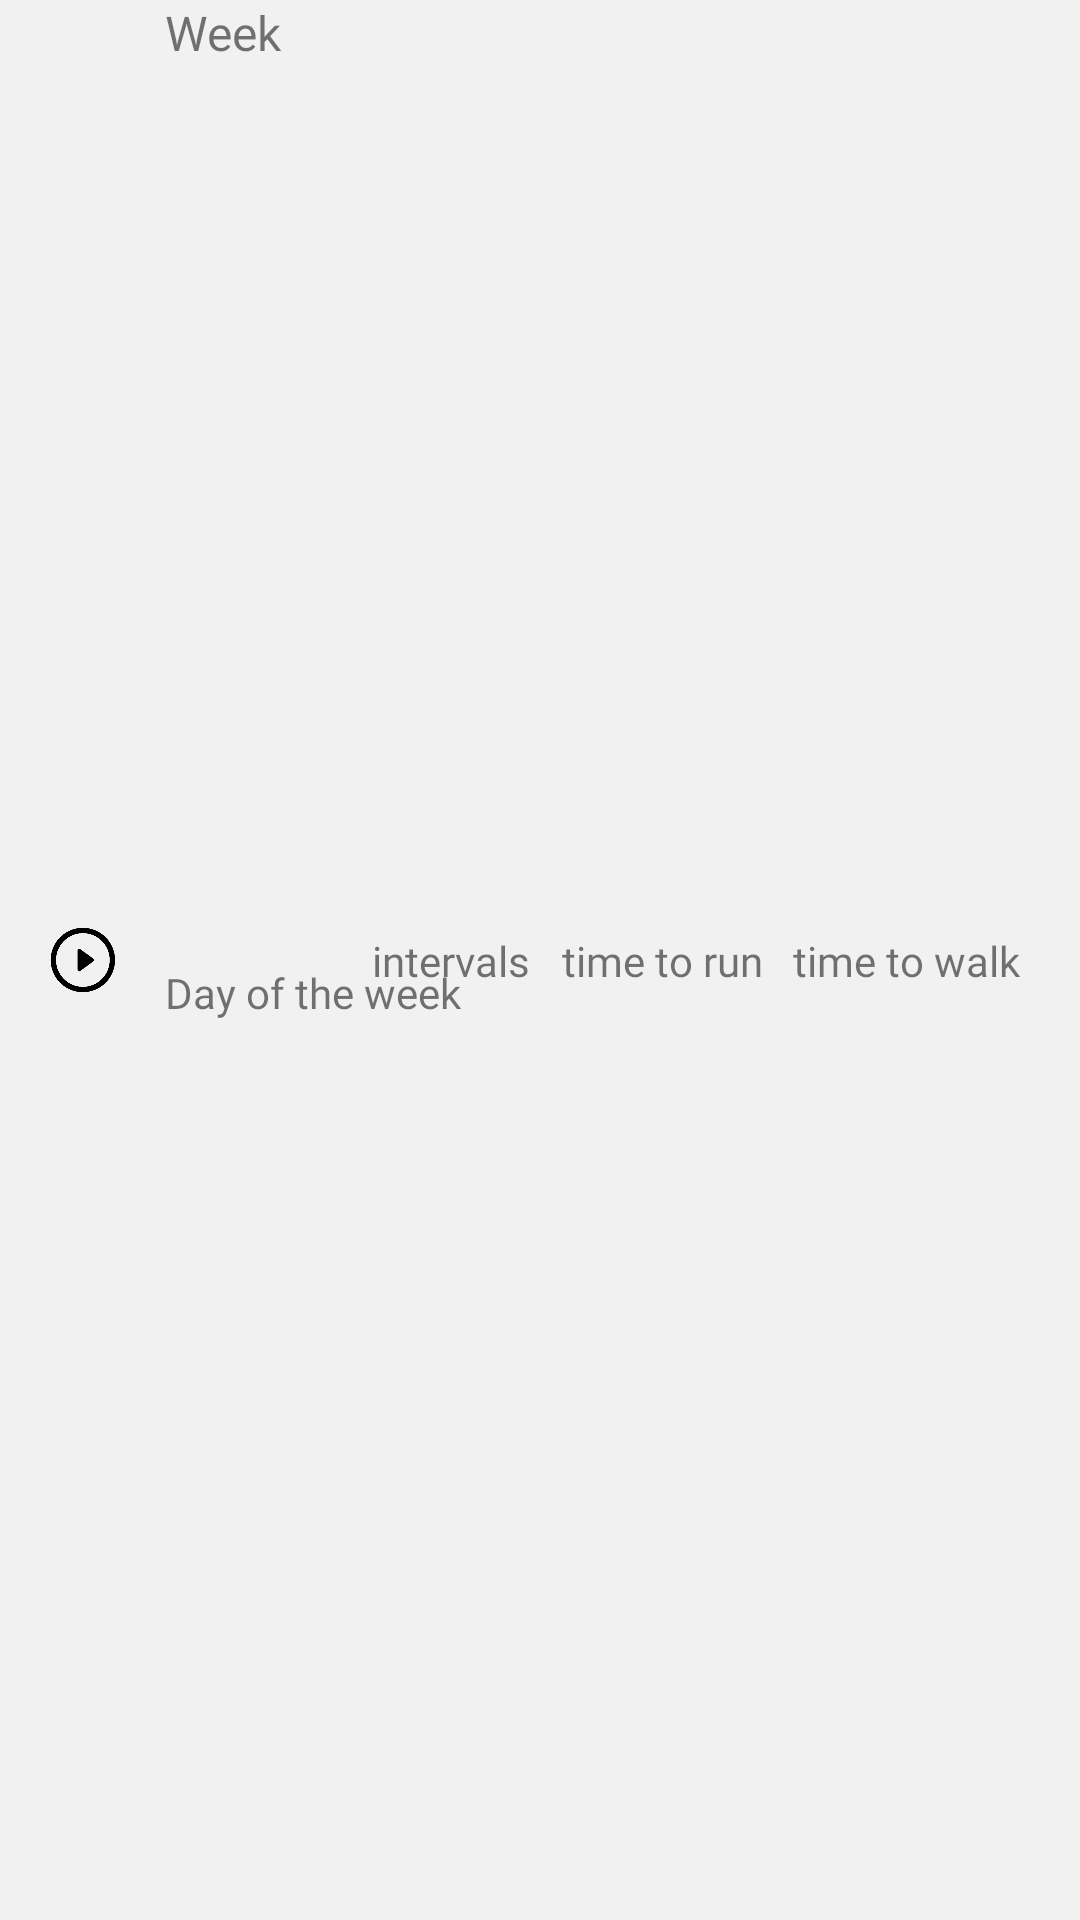

Screen size 1080w x 1920h. Icon name, then its box in pixels as box=[x1, y1, x2, y2]:
play: box=[50, 928, 115, 992]
